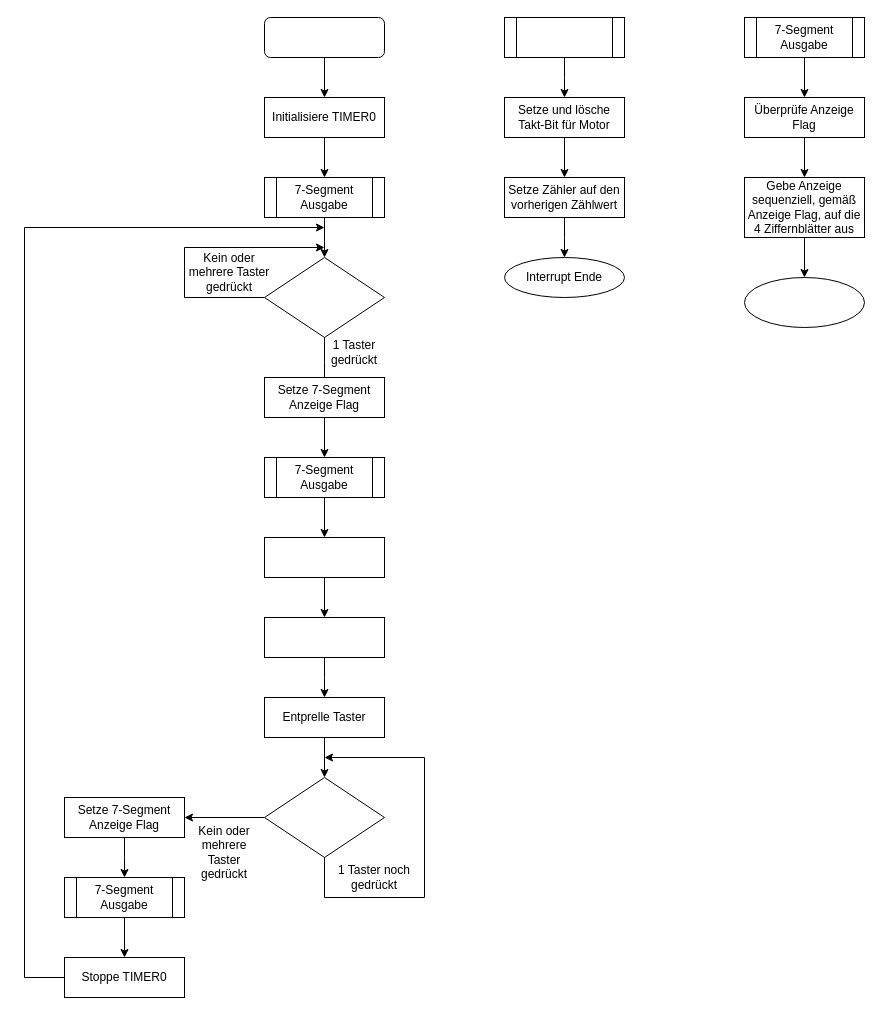
Some shapes in this 882 by 1015 pixel diagram are drawn without their labels. Here are the shapes that lost their labels. From the top down, the centre of each, then its label:
At (324,37): "Hauptprogramm".
At (564,37): "TIMER0 Überlauf Interrupt".
At (324,297): "Prüfe, ob und welcher Taster gedrückt wurde".
At (804,302): "Kehre aus Anzeigeroutine zurück".
At (324,557): "Starte TIMER0".
At (324,637): "Setze Zähler und stelle Schrittmotor ein".
At (324,817): "Prüfe ob und welcher Taster noch gedrückt ist".
